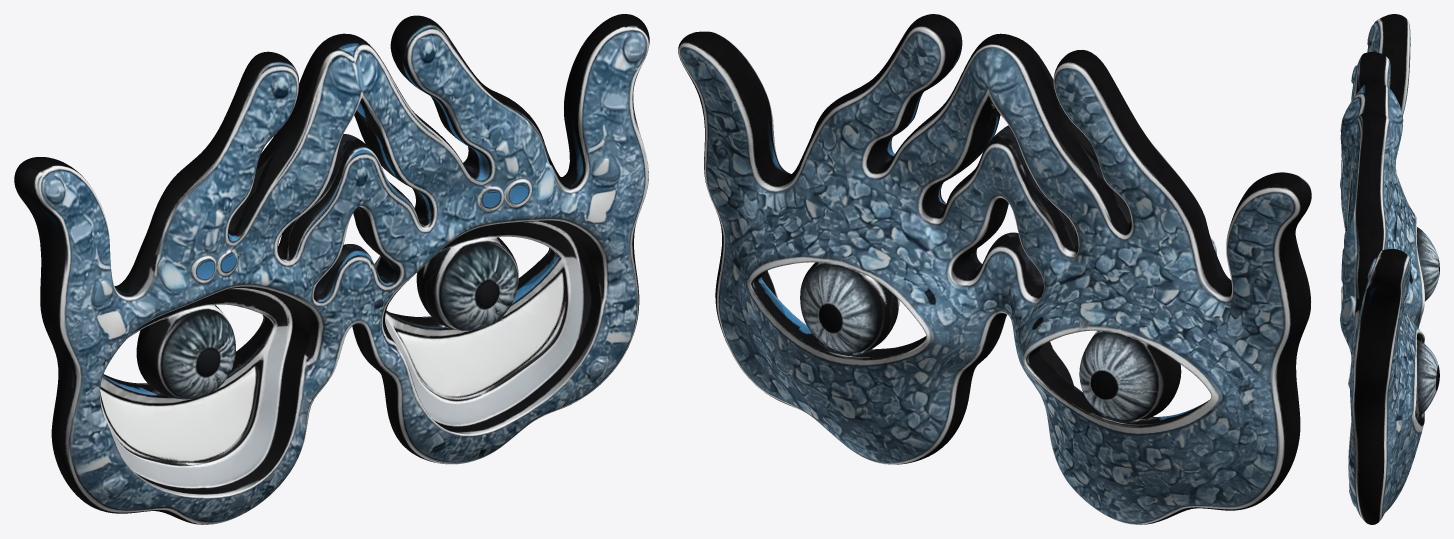
The model's file is hero.glb.
3 views of the same model, side by side, from view 1: azimuth 30°, elevation 25°; view 2: azimuth 150°, elevation 25°; view 3: azimuth 270°, elevation 25° (orthographic). The views are drawn at different scales.
Parts seen in each view (by area): view 1: mesh_node; view 2: mesh_node; view 3: mesh_node.
Part boxes in pixels (left/top/right/bottom): mesh_node: left=14, top=14, right=649, bottom=524; mesh_node: left=678, top=14, right=1311, bottom=524; mesh_node: left=1340, top=14, right=1439, bottom=524.
Bounding box in the file's own units: 1.9 × 1.32 × 0.3162.
Materials: 1 (1 with a texture image).
